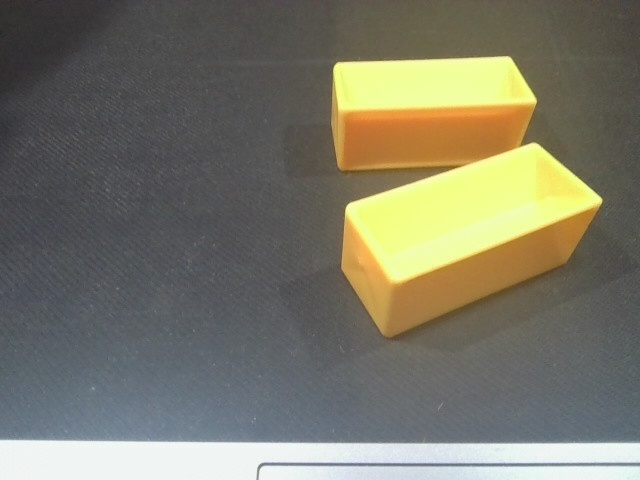YellowSample: (335, 137, 606, 340), (329, 52, 540, 173)
